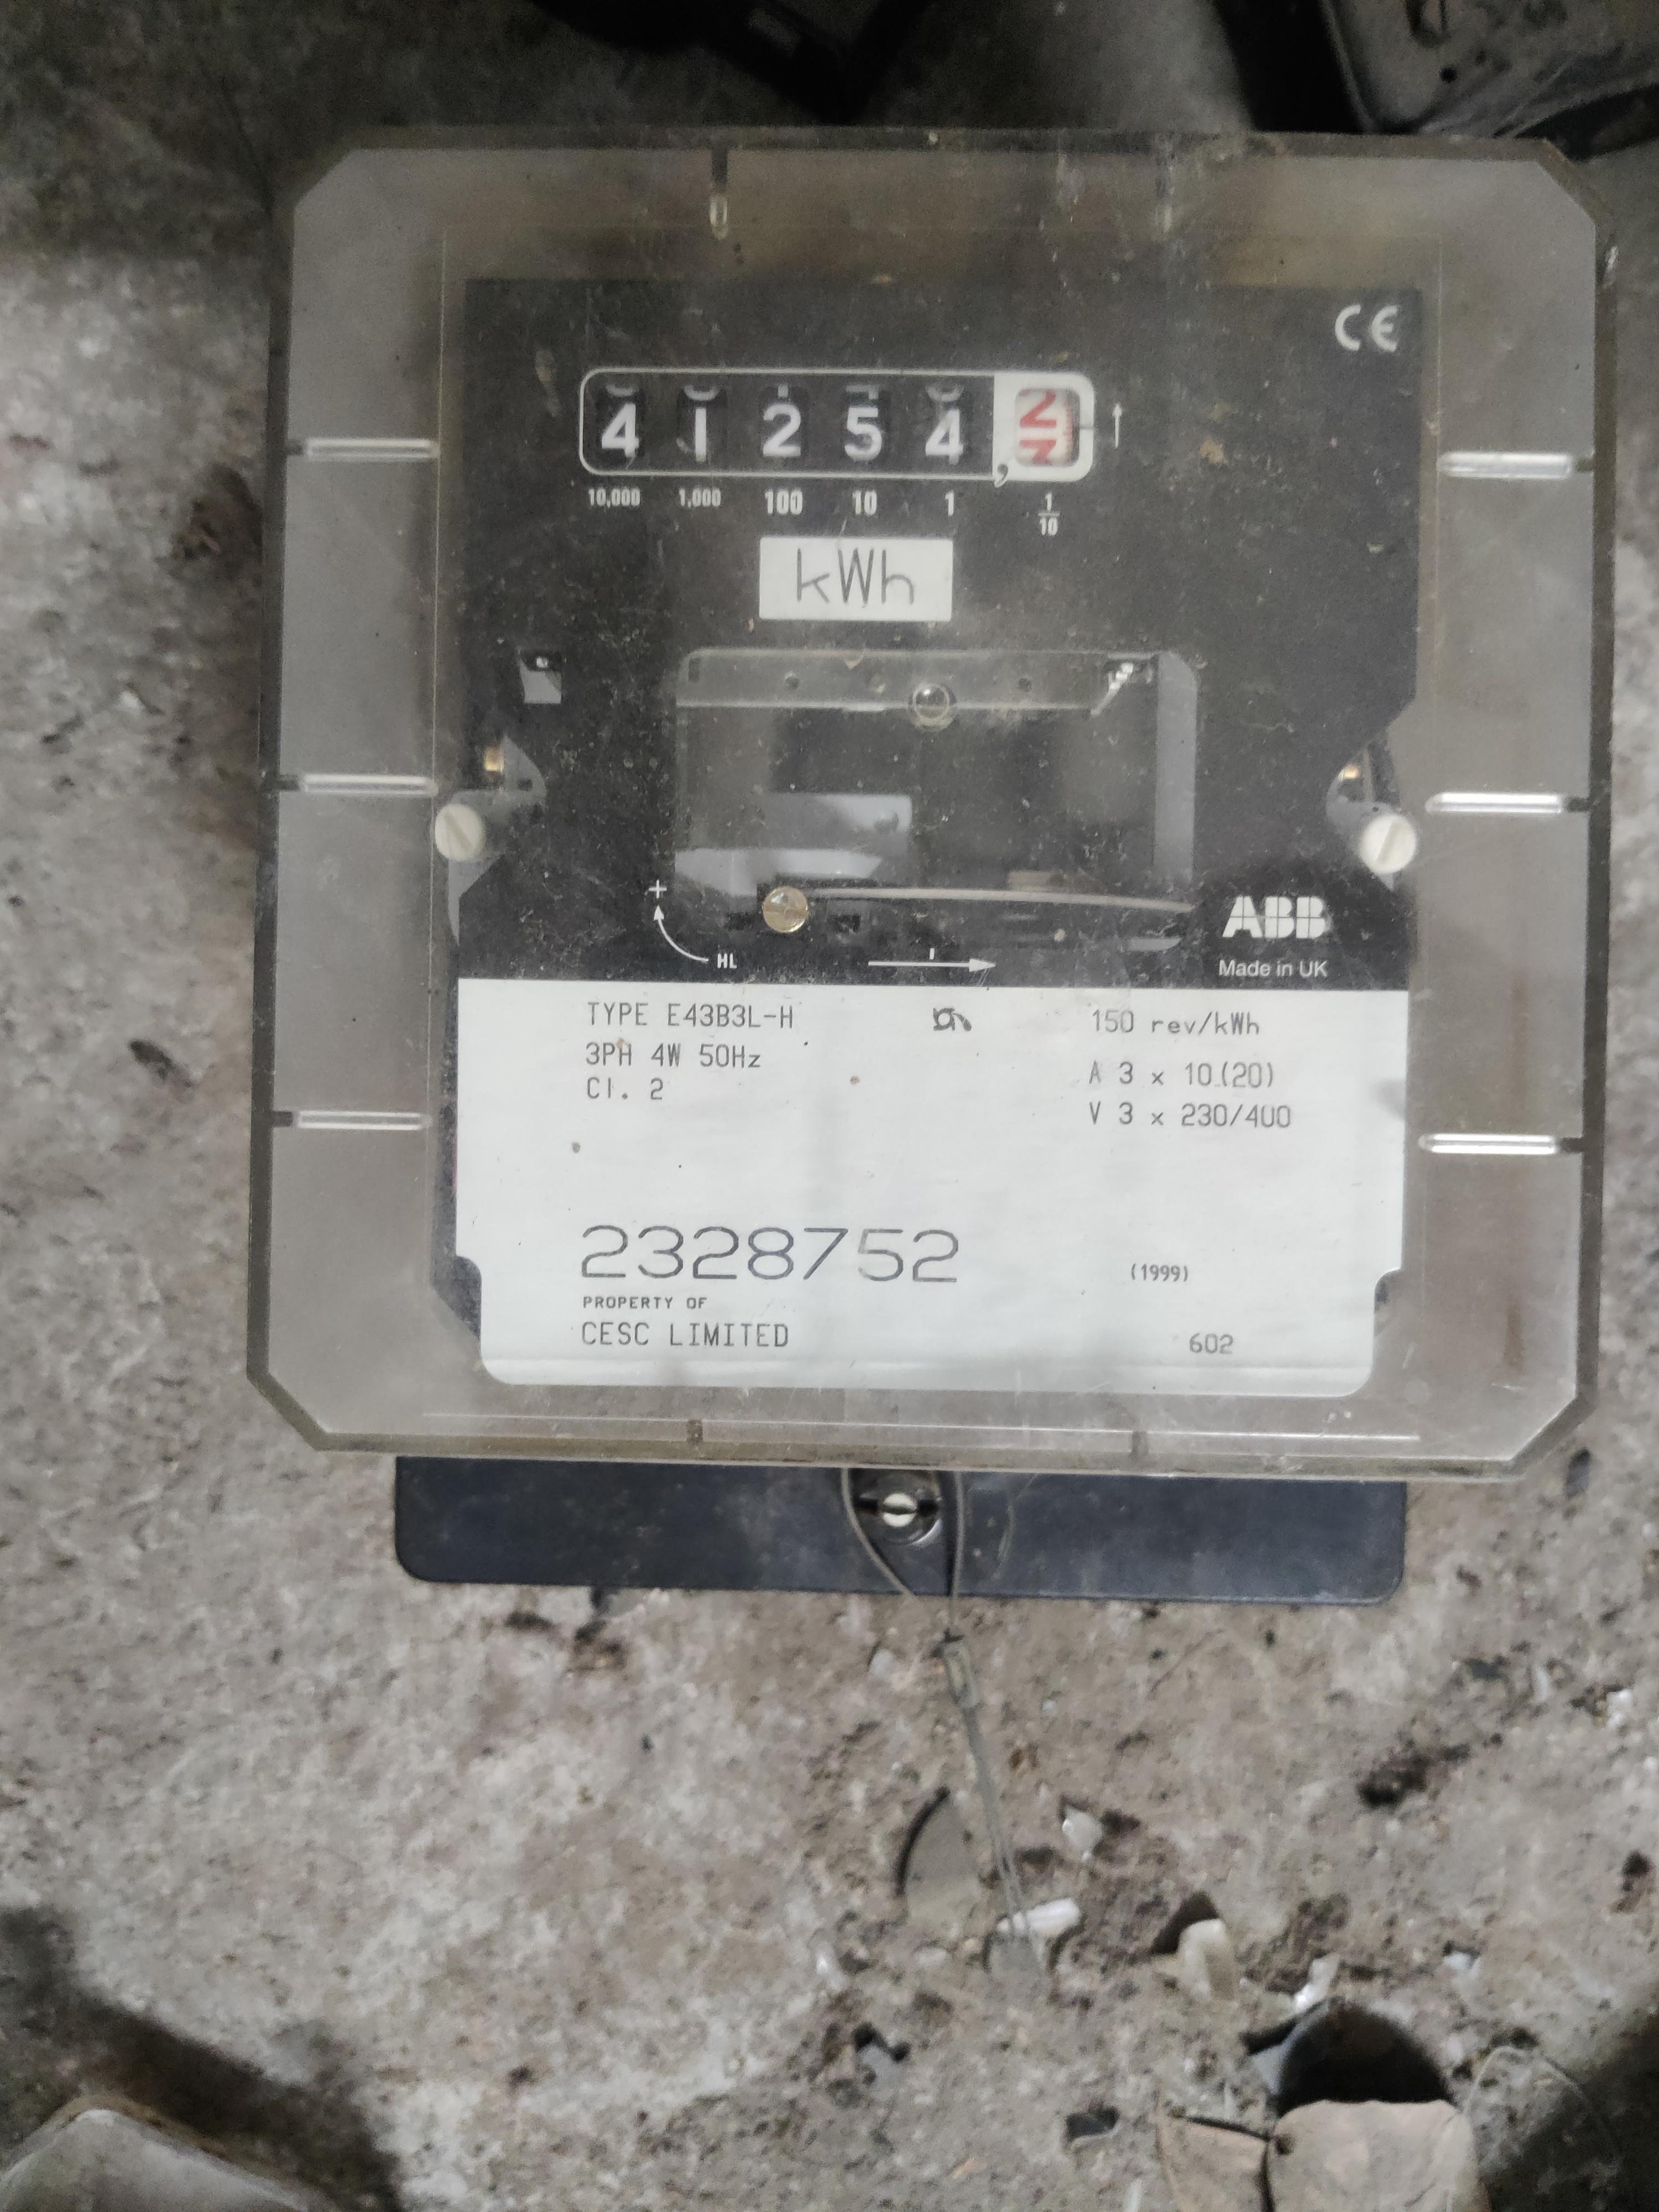meter_readings: (573, 373, 1080, 467)
serial_number: (560, 1210, 967, 1290)
